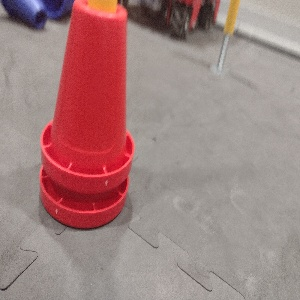Red_2: (40, 0, 135, 233)
